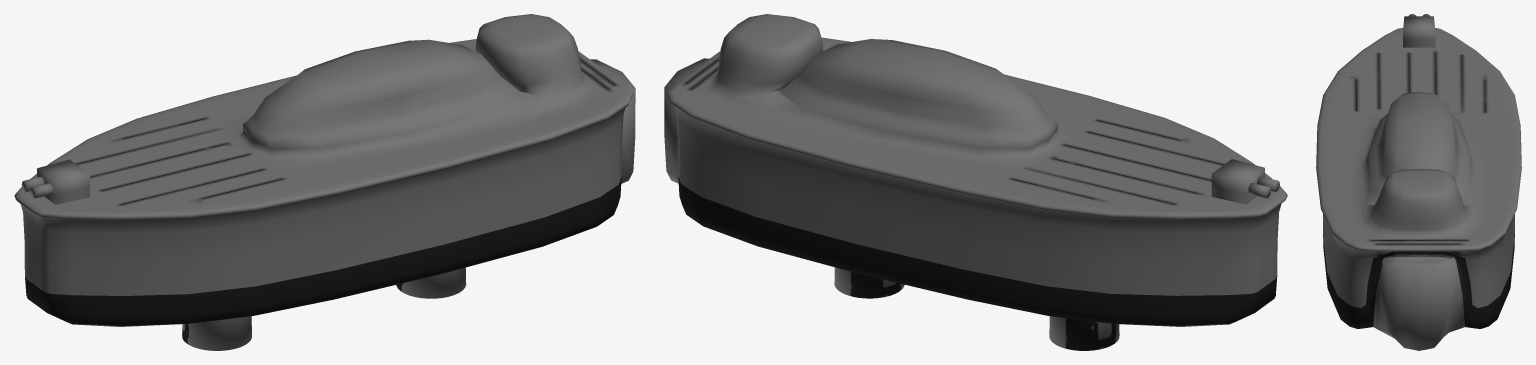
File: Battleship_PatrolBoat.fbx
3 views of the same model, side by side, from view 1: azimuth 30°, elevation 25°; view 2: azimuth 150°, elevation 25°; view 3: azimuth 270°, elevation 25° (orthographic). The views are drawn at different scales.
Visible parts, largest first — view 1: Petrol Boat; view 2: Petrol Boat; view 3: Petrol Boat.
Part boxes in pixels (x1,y1,x2,y2): Petrol Boat: [14, 14, 635, 350]; Petrol Boat: [664, 14, 1287, 350]; Petrol Boat: [1316, 14, 1521, 350].
Bounding box in the file's own units: 0.0271 × 0.0103 × 0.0102.
